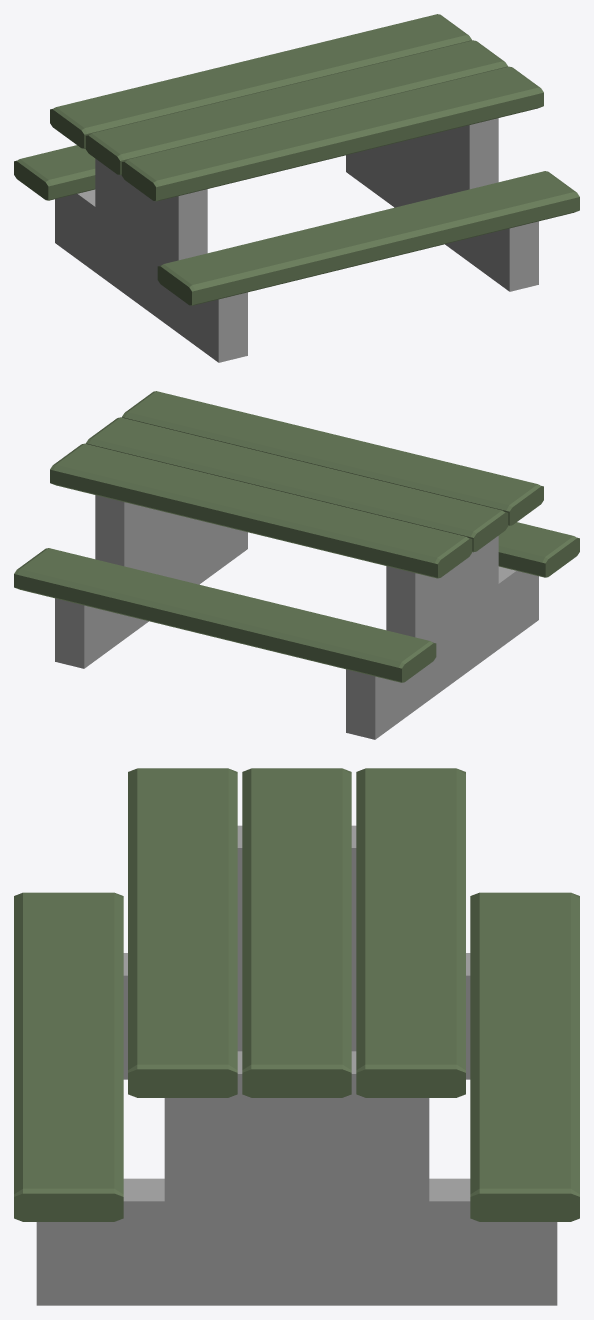
Rendered from X and O table.fbx.
3 views of the same model, one above another, from view 1: azimuth 30°, elevation 25°; view 2: azimuth 150°, elevation 25°; view 3: azimuth 270°, elevation 25° (orthographic). The views are drawn at different scales.
Visible parts, largest first — view 1: Cube; view 2: Cube; view 3: Cube.
Part boxes in pixels (left/top/right/bottom): Cube: left=14, top=14, right=579, bottom=362; Cube: left=14, top=391, right=579, bottom=739; Cube: left=14, top=768, right=579, bottom=1305.
Bounding box in the file's own units: 1560 × 640 × 1240.
